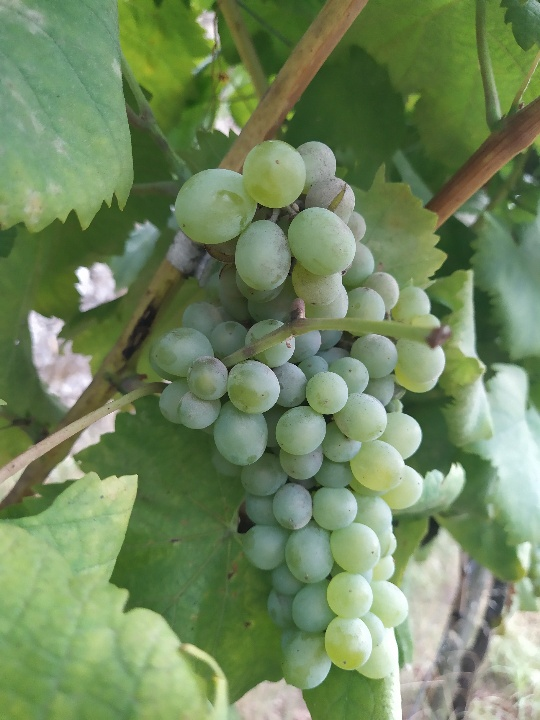grape: (153, 138, 449, 690)
